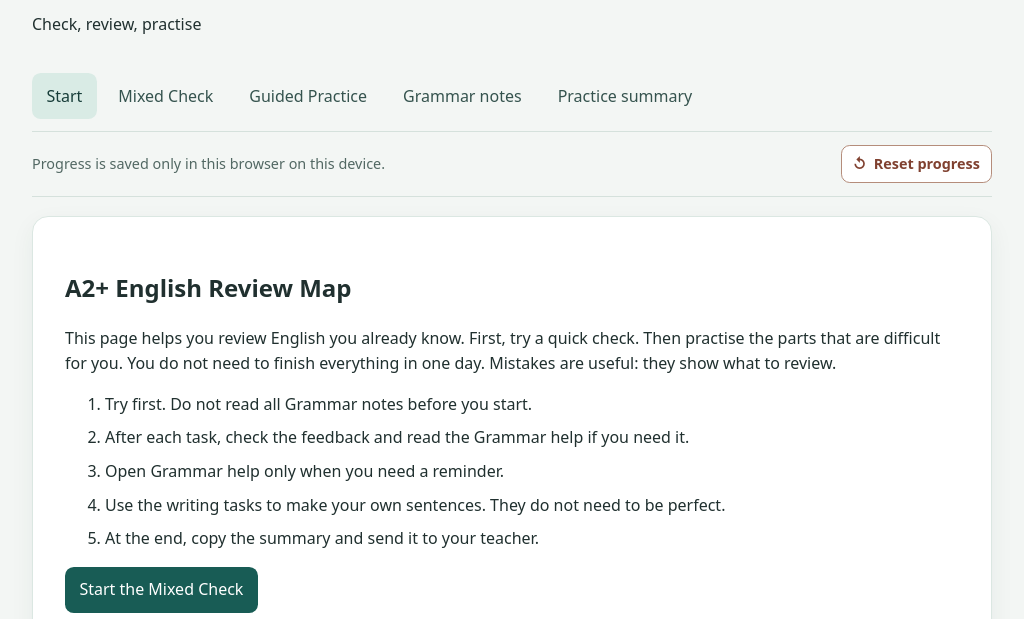
it: shows one guided-practice cluster at a time from a progress overview
Click the button "Guided Practice" at (308, 96), box 235,73 -> 381,119
(page scrolled)
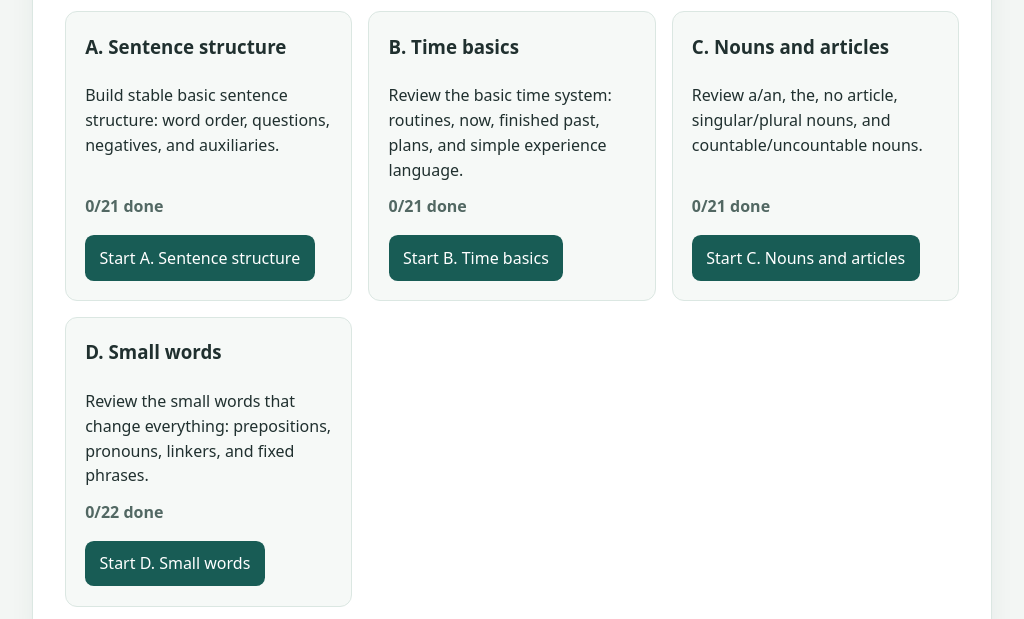
Expected: the text "Where did you go yesterday?" is not shown
Expected: the text "Sentence structure" is shown, 85,34 -> 286,58
Expected: the text "0/21 done" is shown, 85,195 -> 164,217
Click the button "Start A. Sentence structure" at (200, 258), box 85,235 -> 315,281
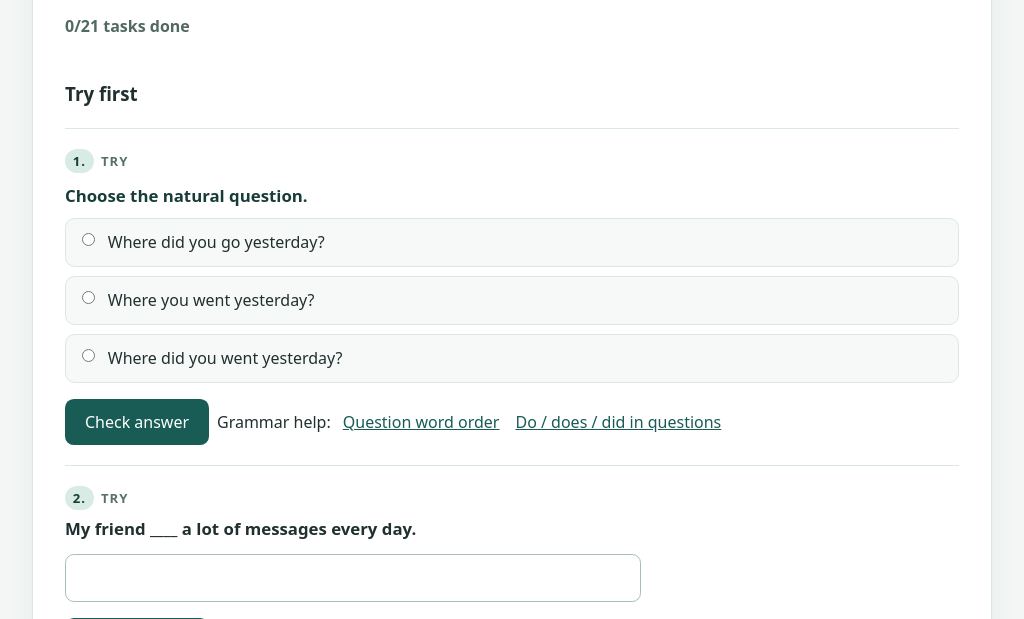
Expected: the text "Where did you go yesterday?" is shown, 108,230 -> 325,255
